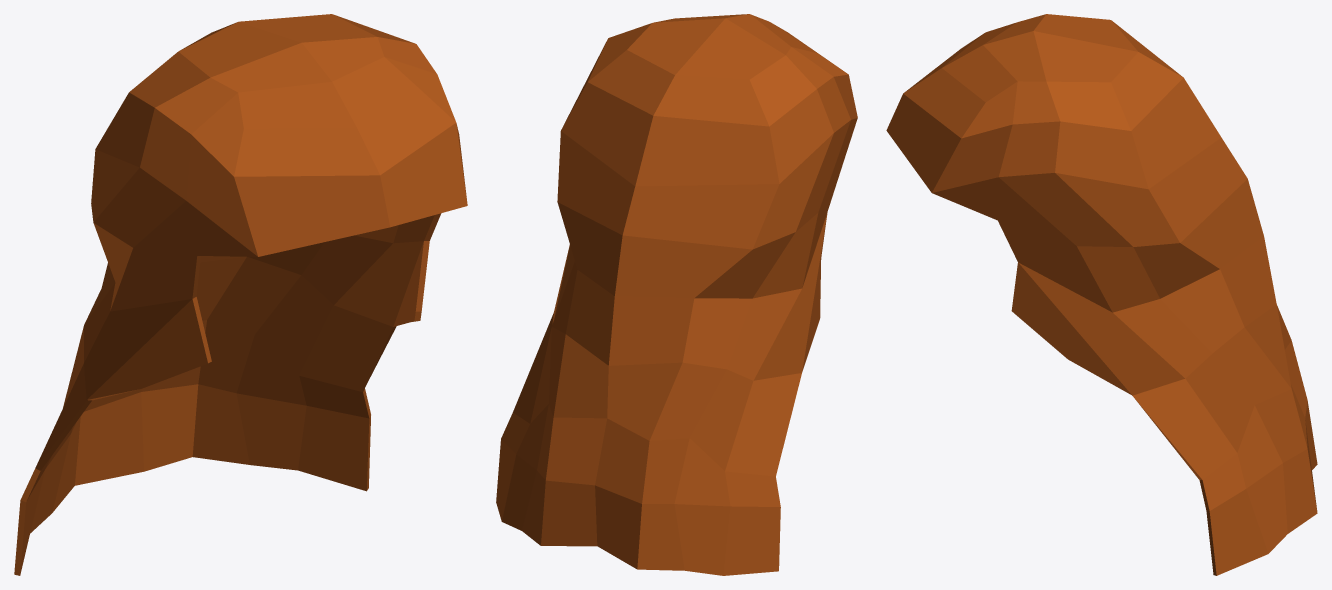
The model's file is long_wavy_hair.glb.
The picture shows the model from 3 angles, left to right: view 1: azimuth 30°, elevation 25°; view 2: azimuth 150°, elevation 25°; view 3: azimuth 270°, elevation 25°; orthographic projection. The views are drawn at different scales.
Parts seen in each view (by area): view 1: Long Wavy Hair.001; view 2: Long Wavy Hair.001; view 3: Long Wavy Hair.001.
Part boxes in pixels (x1,y1,x2,y2): Long Wavy Hair.001: [14, 14, 467, 575]; Long Wavy Hair.001: [496, 14, 857, 575]; Long Wavy Hair.001: [886, 14, 1317, 575].
Size of the model in its own units: 0.6741 by 1.04 by 0.8542.
